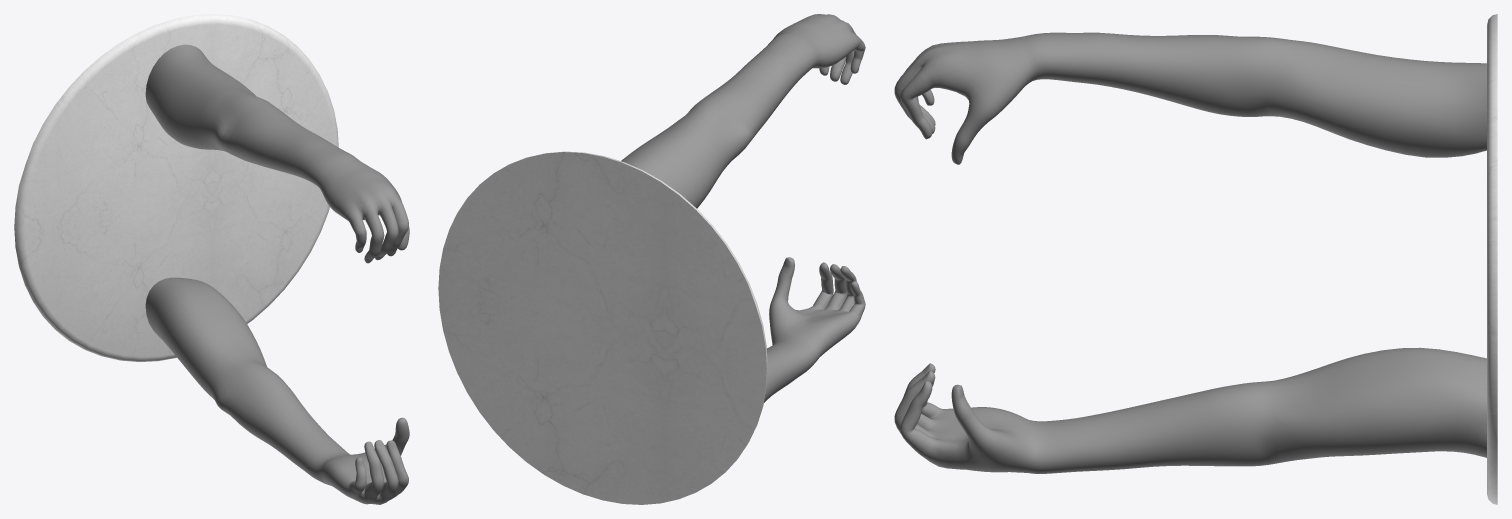
Rendered from Decor_Hands03.FBX.
The picture shows the model from 3 angles, left to right: view 1: azimuth 30°, elevation 25°; view 2: azimuth 150°, elevation 25°; view 3: azimuth 270°, elevation 25°; orthographic projection. The views are drawn at different scales.
Parts seen in each view (by area): view 1: Decor_Cylinder03, Decor_Hands03; view 2: Decor_Cylinder03, Decor_Hands03; view 3: Decor_Hands03, Decor_Cylinder03.
Part boxes in pixels (x1,y1,x2,y2): Decor_Cylinder03: [14, 14, 338, 361]; Decor_Hands03: [145, 44, 409, 504]; Decor_Cylinder03: [438, 151, 767, 504]; Decor_Hands03: [621, 14, 865, 402]; Decor_Hands03: [894, 32, 1486, 473]; Decor_Cylinder03: [1487, 14, 1497, 504].
Bounding box in the file's own units: 32.96 × 32.96 × 40.44.
